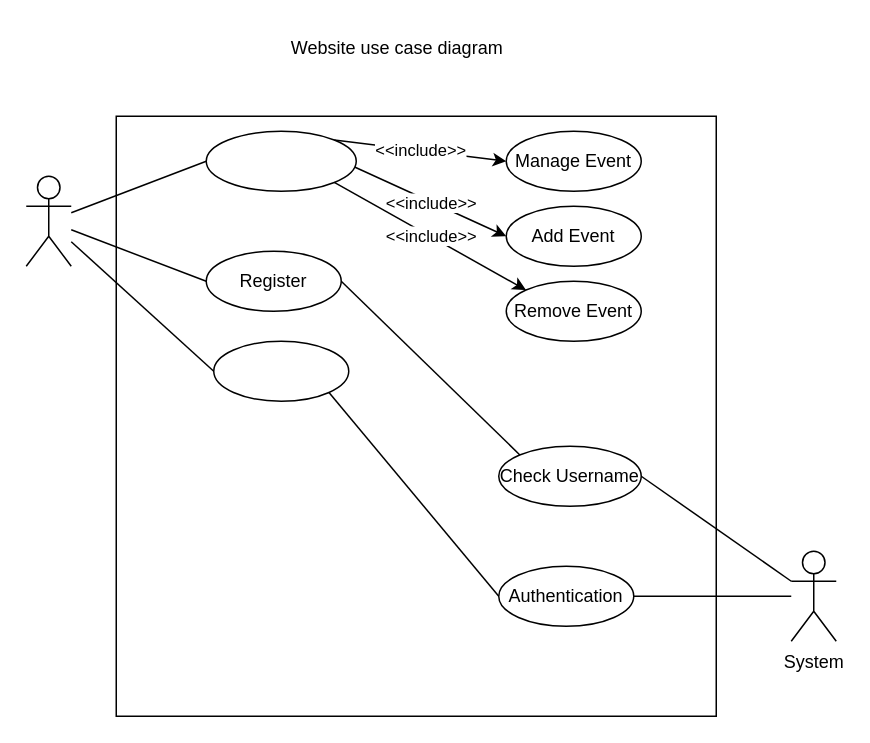
Image size: 870x743. Some labels were removed from this diagram. The shapes that lost their labels are listed below. From the top down, each one's centre as x and y in pixels, then its label:
pixel 280 160: View Dashbroad
pixel 48 220: User
pixel 280 370: Login
